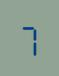seven: (19, 20, 38, 56)
